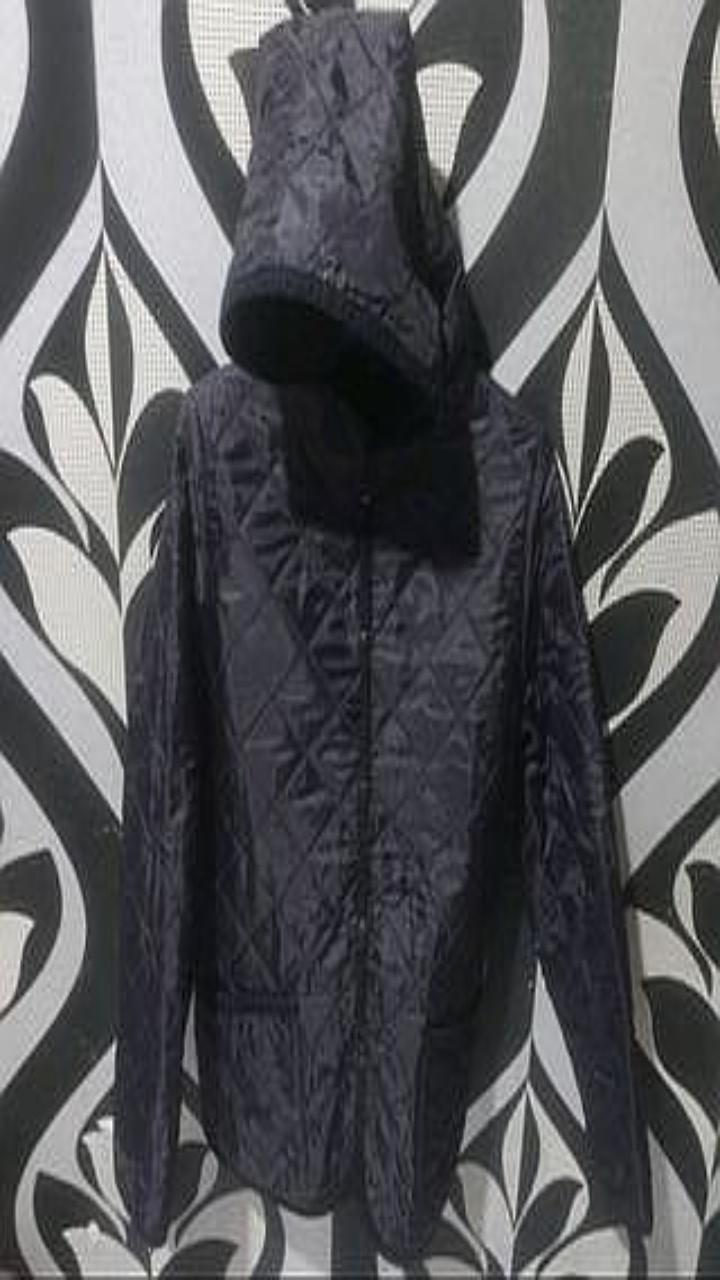Sports_Jacket: (114, 7, 651, 1261)
